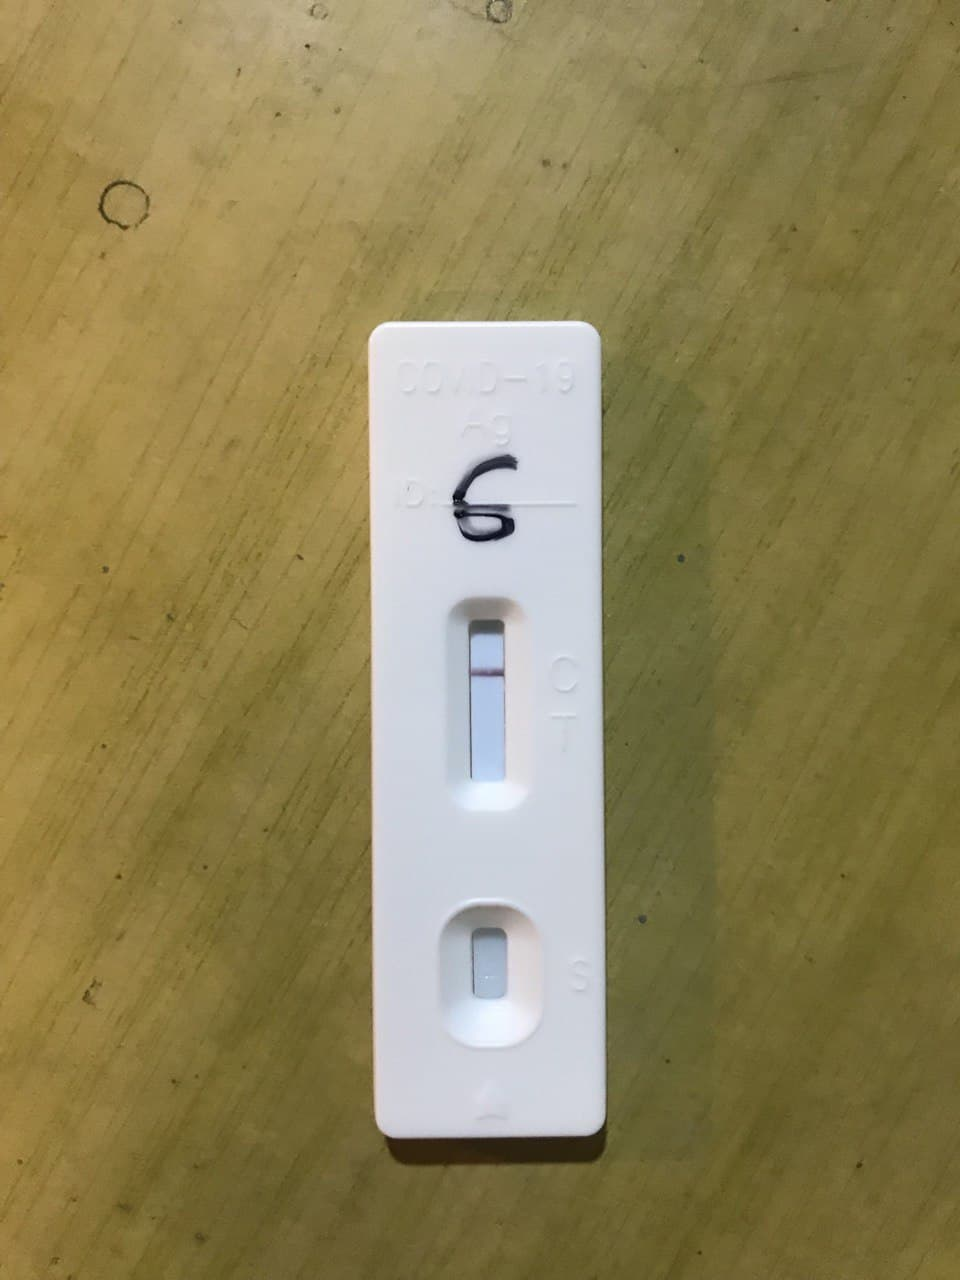rapid_test: (355, 315, 614, 1148)
